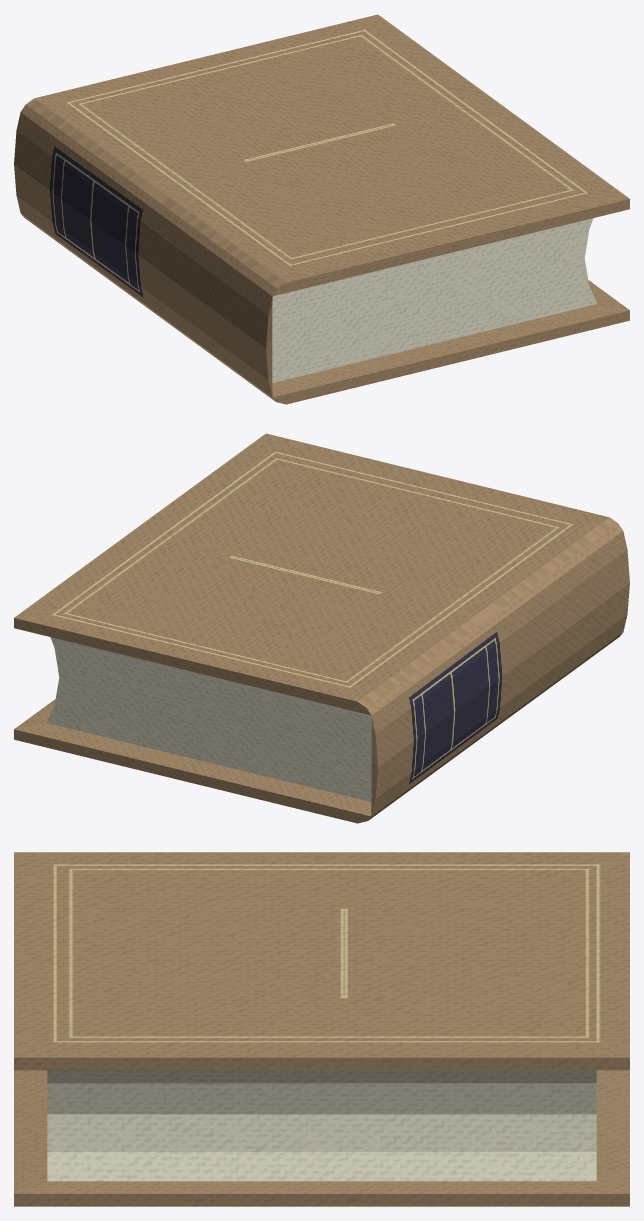
Rendered from book_02.fbx.
The picture shows the model from 3 angles, top to bottom: view 1: azimuth 30°, elevation 25°; view 2: azimuth 150°, elevation 25°; view 3: azimuth 270°, elevation 25°; orthographic projection. The views are drawn at different scales.
Visible parts, largest first — view 1: Book_02; view 2: Book_02; view 3: Book_02.
Part boxes in pixels (x1,y1,x2,y2): Book_02: [14, 14, 629, 404]; Book_02: [14, 433, 629, 823]; Book_02: [14, 852, 629, 1206].
Bounding box in the file's own units: 250 × 79.82 × 299.
